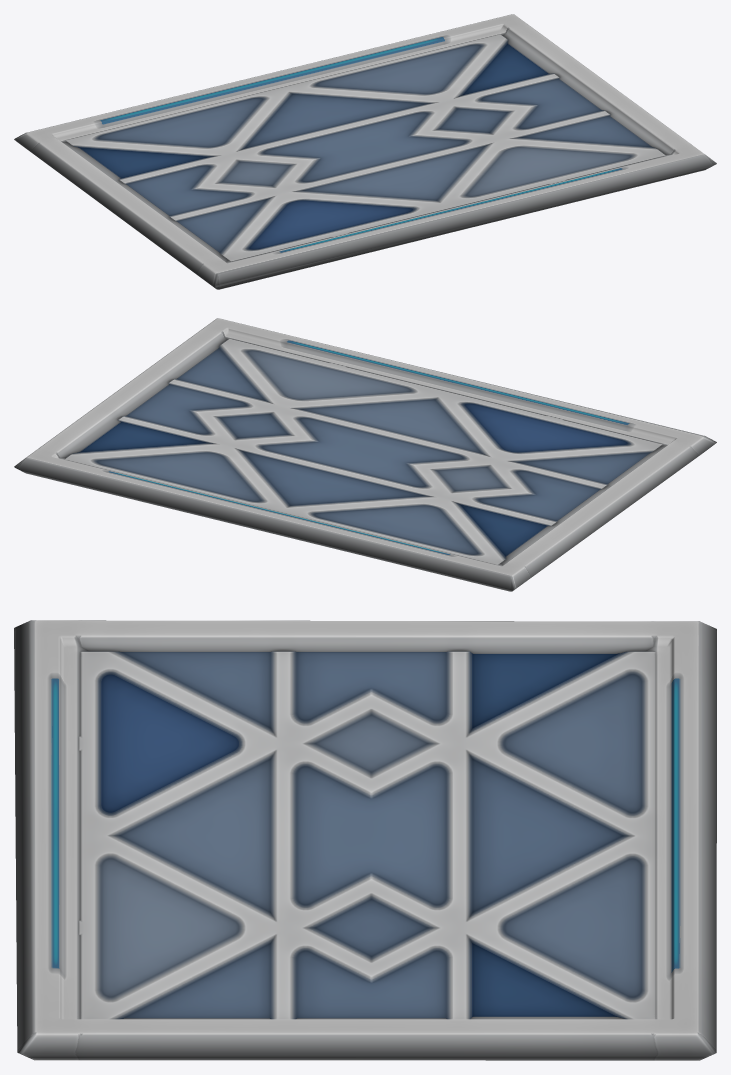
The model's file is mesh_1002_props_5b.FBX.
The picture shows the model from 3 angles, top to bottom: view 1: azimuth 30°, elevation 25°; view 2: azimuth 150°, elevation 25°; view 3: azimuth 270°, elevation 25°; orthographic projection. The views are drawn at different scales.
Visible parts, largest first — view 1: mesh_1002_props_5a; view 2: mesh_1002_props_5a; view 3: mesh_1002_props_5a.
Boxes of the visible parts, left/top/right/bottom form: mesh_1002_props_5a: left=14, top=14, right=716, bottom=289; mesh_1002_props_5a: left=14, top=318, right=716, bottom=591; mesh_1002_props_5a: left=14, top=620, right=716, bottom=1060.
Size of the model in its own units: 795 by 23.98 by 552.
1 material, 1 textured.
